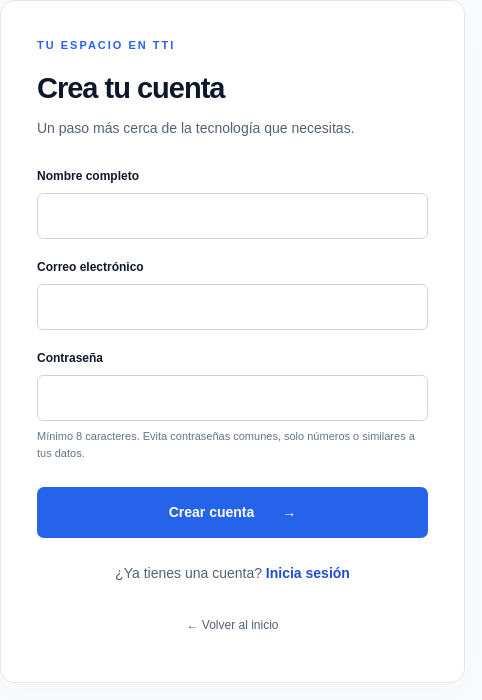
Test: registration feedback after API success
Type "Ana Torres" into the field labelled "Nombre completo".
click(232, 216); type("Ana Torres")  # box [37,193,428,239]
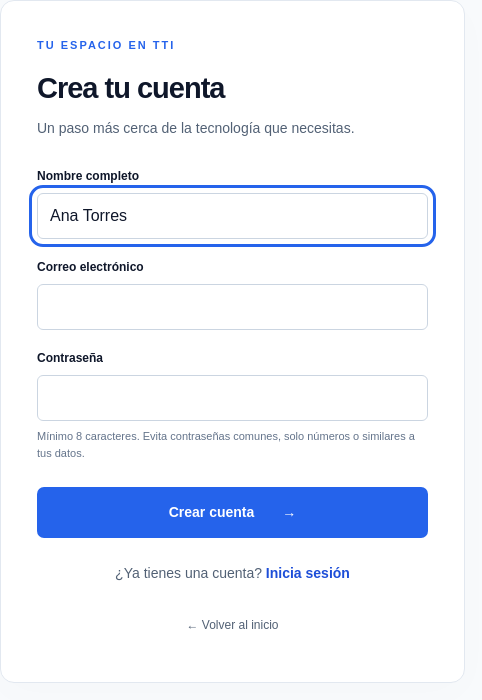
Type "ana@example.com" into the field labelled "Correo electrónico".
click(232, 307); type("ana@example.com")  # box [37,284,428,330]
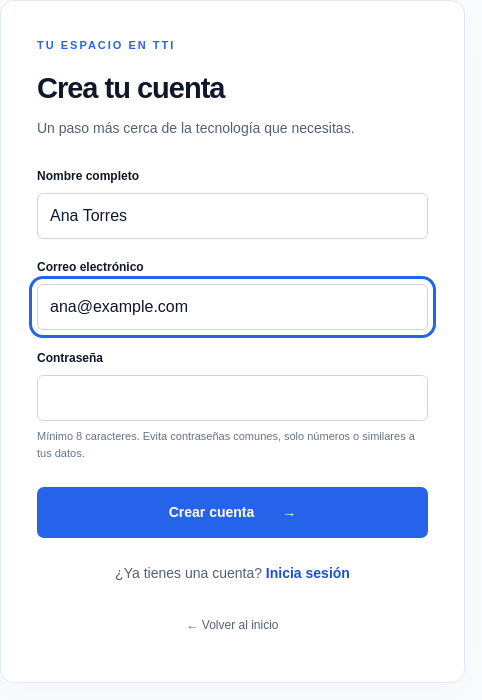
Type "Una-clave!Distinta8472" into the password field labelled "Contraseña".
click(232, 398); type("Una-clave!Distinta8472")  # box [37,375,428,421]
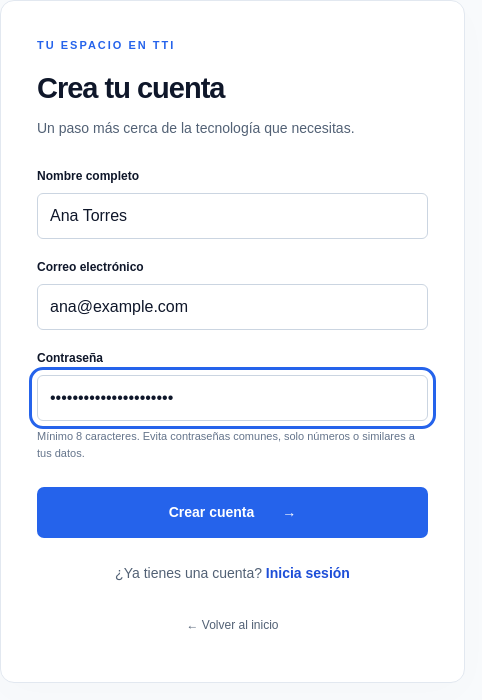
Click the button "Crear cuenta →".
click(232, 512)  # box [37,487,428,538]
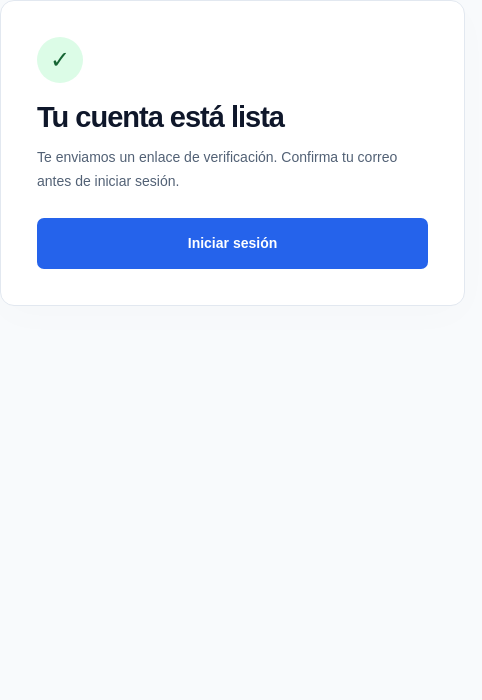
Expected: the heading "Tu cuenta está lista" is shown, [37,101,284,133]
